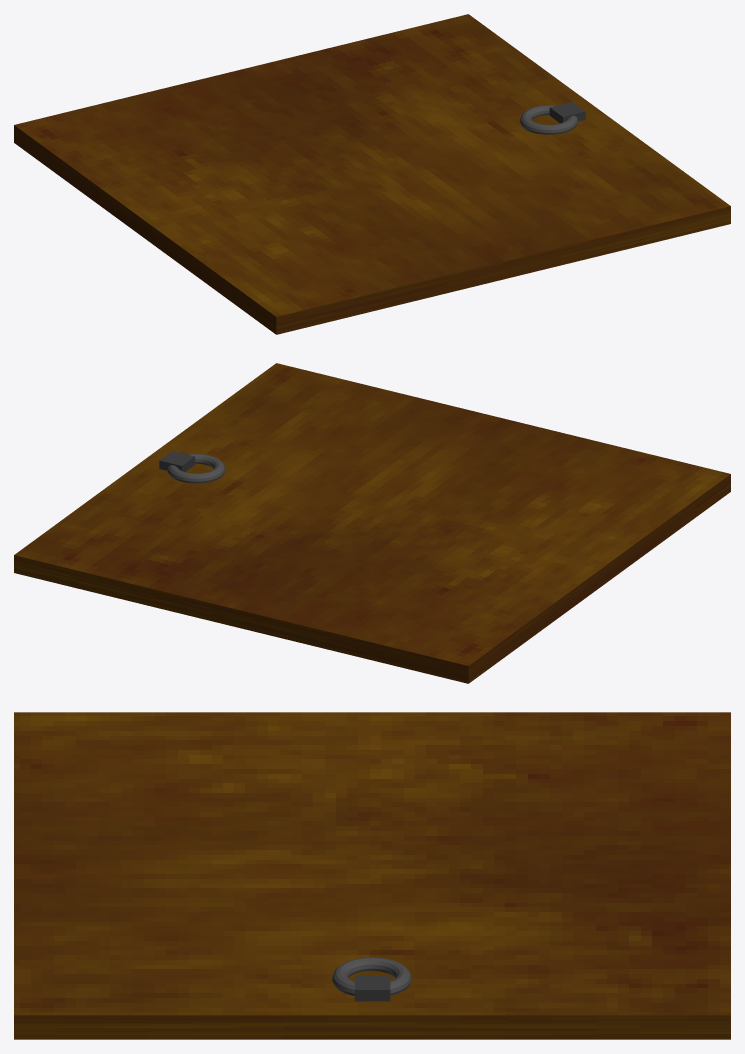
The model's file is trapDoor.glb.
3 renders of one model, top to bottom at view 1: azimuth 30°, elevation 25°; view 2: azimuth 150°, elevation 25°; view 3: azimuth 270°, elevation 25°, orthographic. The views are drawn at different scales.
Visible parts, largest first — view 1: Cube; view 2: Cube; view 3: Cube.
Boxes of the visible parts, bbox=[...] form: Cube: bbox=[14, 14, 730, 334]; Cube: bbox=[14, 363, 730, 683]; Cube: bbox=[14, 712, 730, 1039].
Size of the model in its own units: 4 by 0.2208 by 4.
Materials: 3 (1 with a texture image).
